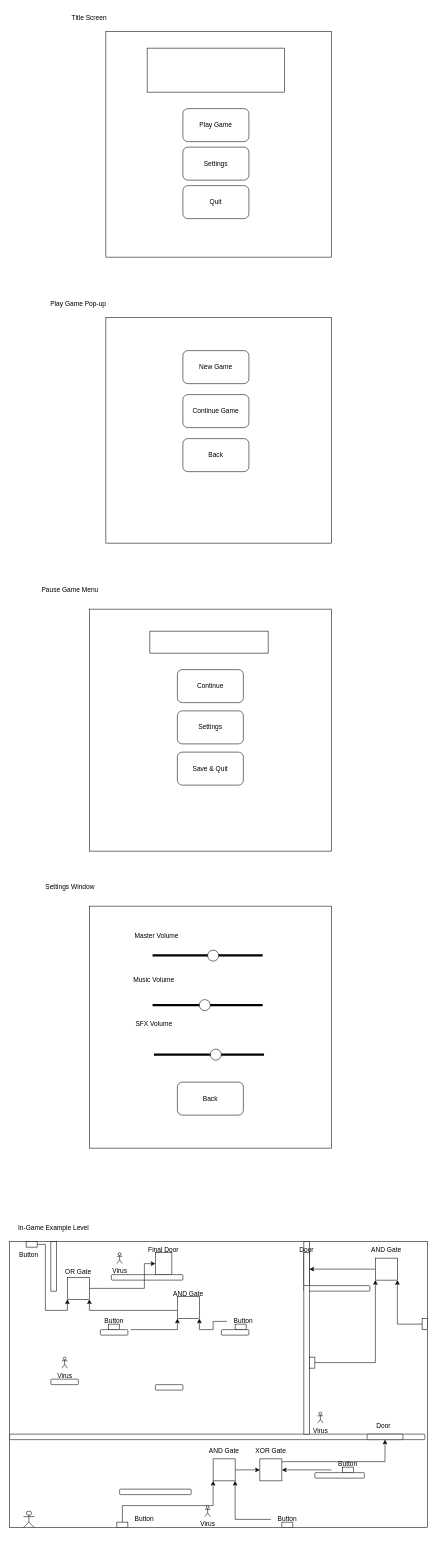
Image size: 437x1548. Some labels were removed from this diagram. Here are the shapes that lost their labels. From the top down, the centre of each, then its label:
point 216,70: Logical Gate Logo
point 208,642: Game Paused
point 28,1519: Character
